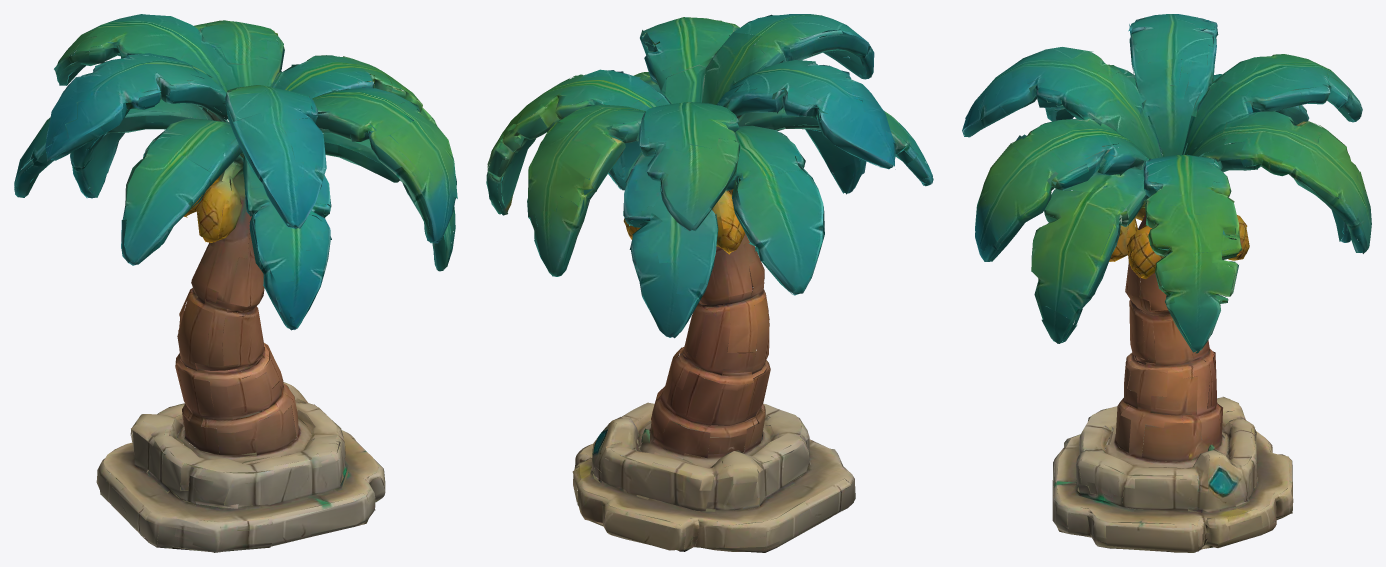
File: 10-garden-palm.glb
The picture shows the model from 3 angles, left to right: view 1: azimuth 30°, elevation 25°; view 2: azimuth 150°, elevation 25°; view 3: azimuth 270°, elevation 25°; orthographic projection. The views are drawn at different scales.
Parts seen in each view (by area): view 1: tripo_node_93c14a1c; view 2: tripo_node_93c14a1c; view 3: tripo_node_93c14a1c.
Boxes of the visible parts, left/top/right/bottom form: tripo_node_93c14a1c: left=14, top=14, right=457, bottom=552; tripo_node_93c14a1c: left=486, top=14, right=933, bottom=552; tripo_node_93c14a1c: left=962, top=14, right=1371, bottom=552.
Bounding box in the file's own units: 0.4521 × 0.5016 × 0.4305.
1 material, 1 textured.
